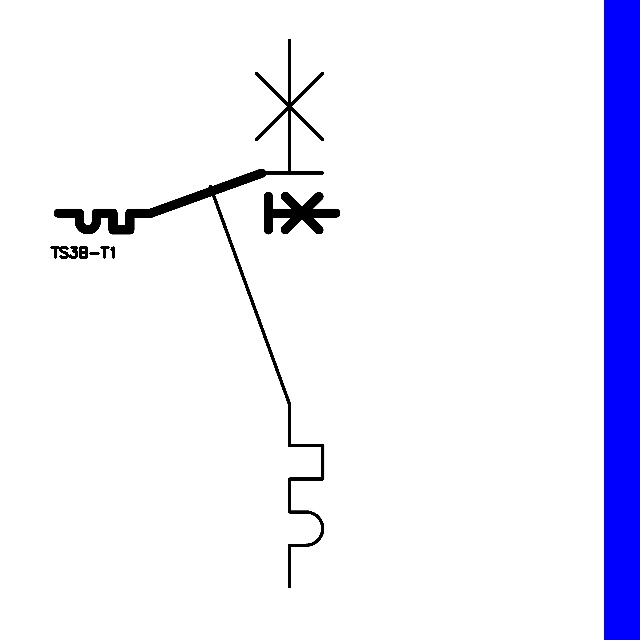interruptor_termomagnetico: (196, 26, 337, 601), (51, 166, 343, 237)
